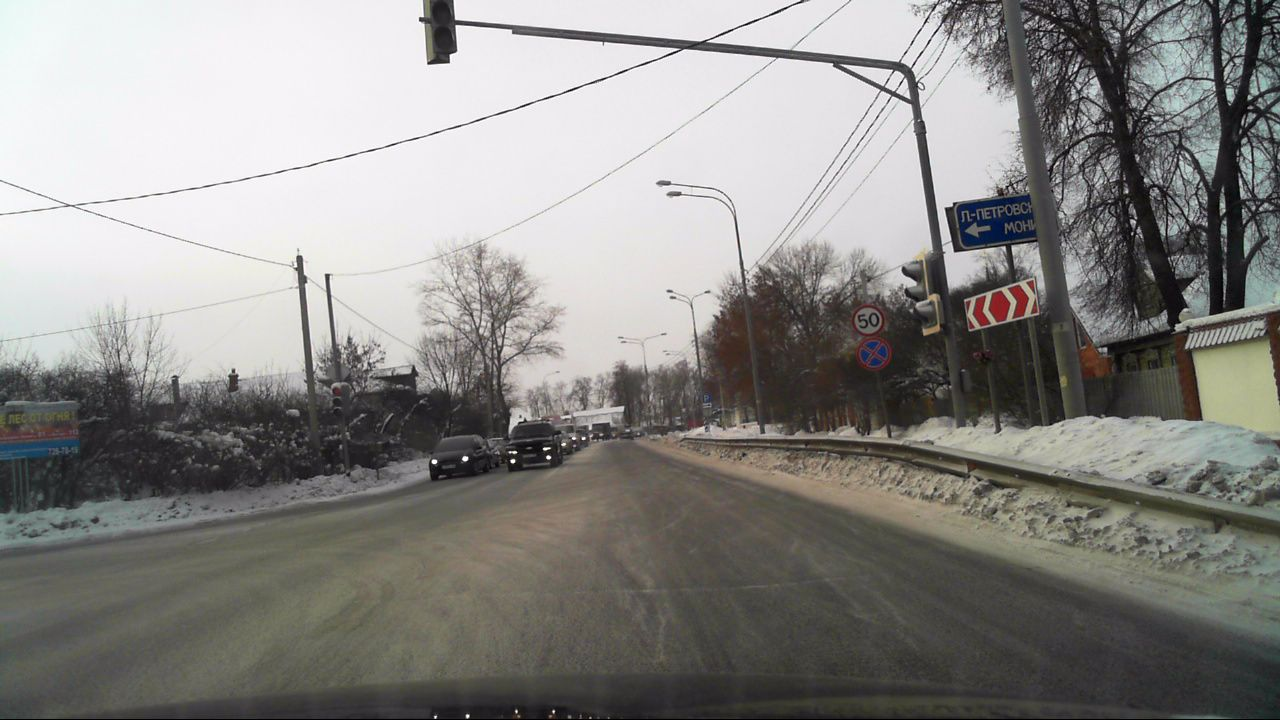No Parking: (857, 338, 890, 370)
